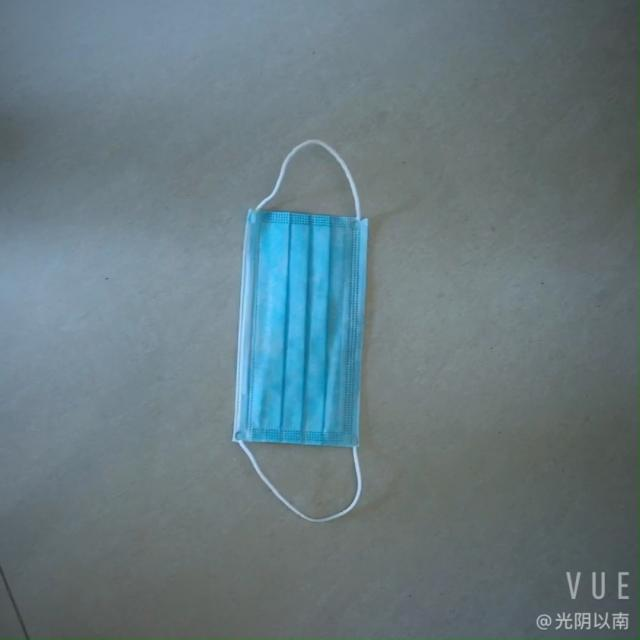face mask: (220, 198, 391, 469)
